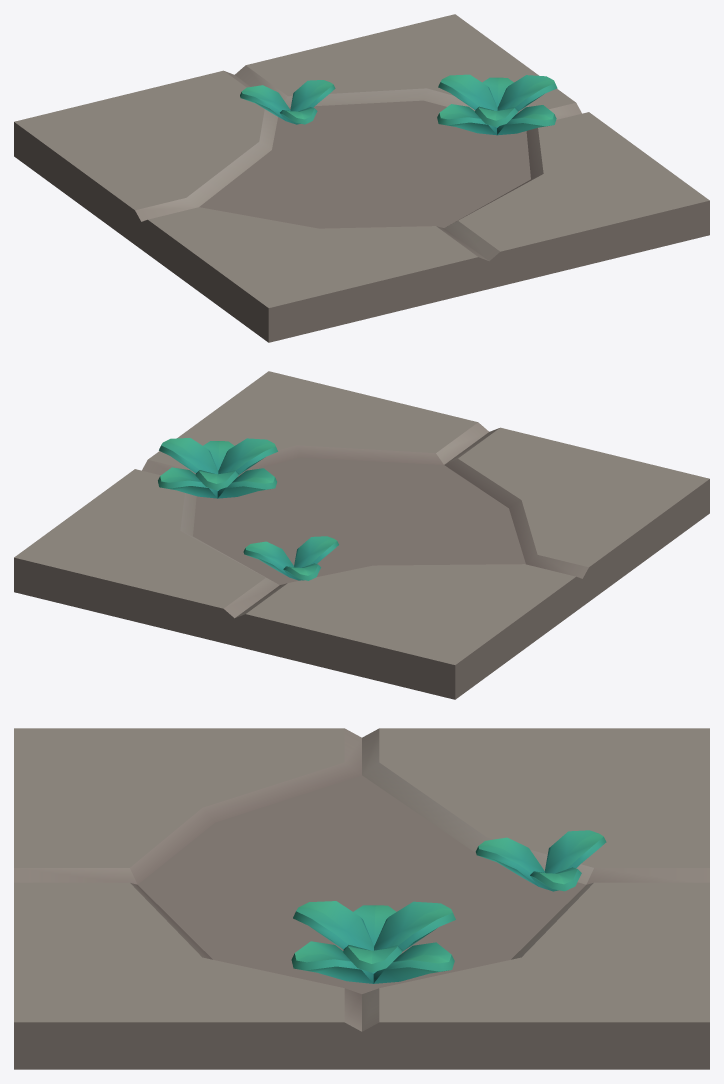
The model's file is floor_tile_small_weeds_B.gltf.
3 renders of one model, top to bottom at view 1: azimuth 30°, elevation 25°; view 2: azimuth 150°, elevation 25°; view 3: azimuth 270°, elevation 25°, orthographic. The views are drawn at different scales.
Parts seen in each view (by area): view 1: floor_tile_small_weeds_B; view 2: floor_tile_small_weeds_B; view 3: floor_tile_small_weeds_B.
Part boxes in pixels (x1,y1,x2,y2): floor_tile_small_weeds_B: [14, 14, 709, 342]; floor_tile_small_weeds_B: [14, 371, 709, 699]; floor_tile_small_weeds_B: [14, 728, 709, 1069].
Bounding box in the file's own units: 2 × 0.2955 × 2.
1 material, 1 textured.
